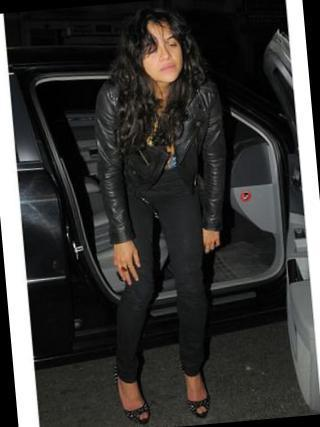Drunk: (141, 26, 184, 81)
